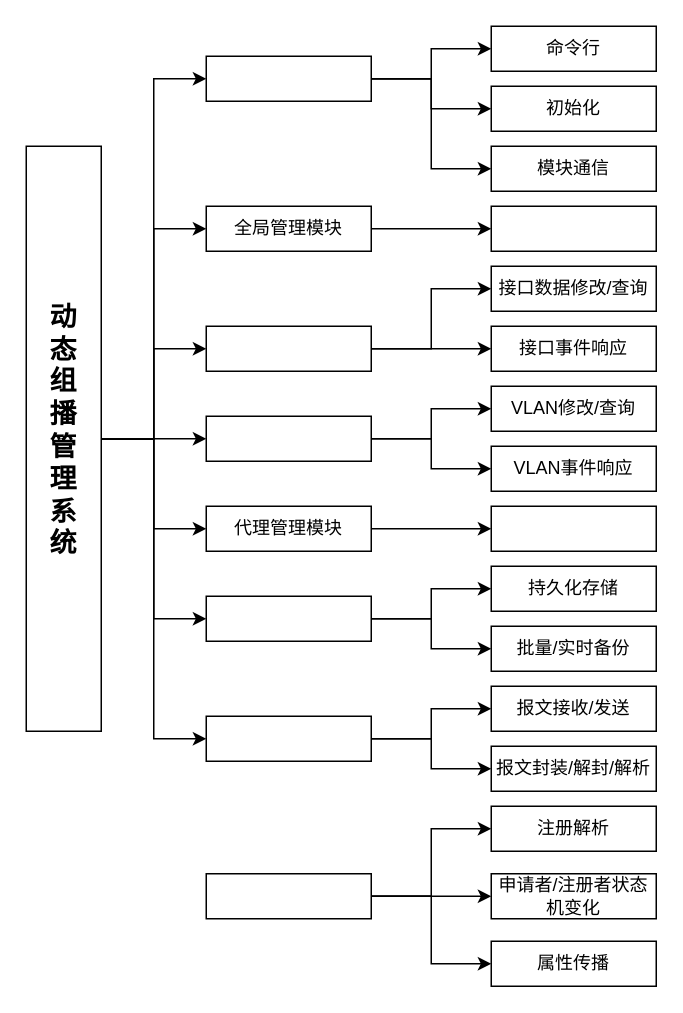
This 683x1013 diagram has some shape labels left out. Each missing label, with the centre of its shape:
"VLAN管理模块" goes at pixel 288 438.
"主控模块" goes at pixel 288 78.
"代理数据修改/查询" goes at pixel 573 528.
"全局数据修改/查询" goes at pixel 573 228.
"报文处理模块" goes at pixel 288 738.
"接口管理模块" goes at pixel 288 348.
"状态机模块" goes at pixel 288 895.
"配置数据管理模块" goes at pixel 288 618.
